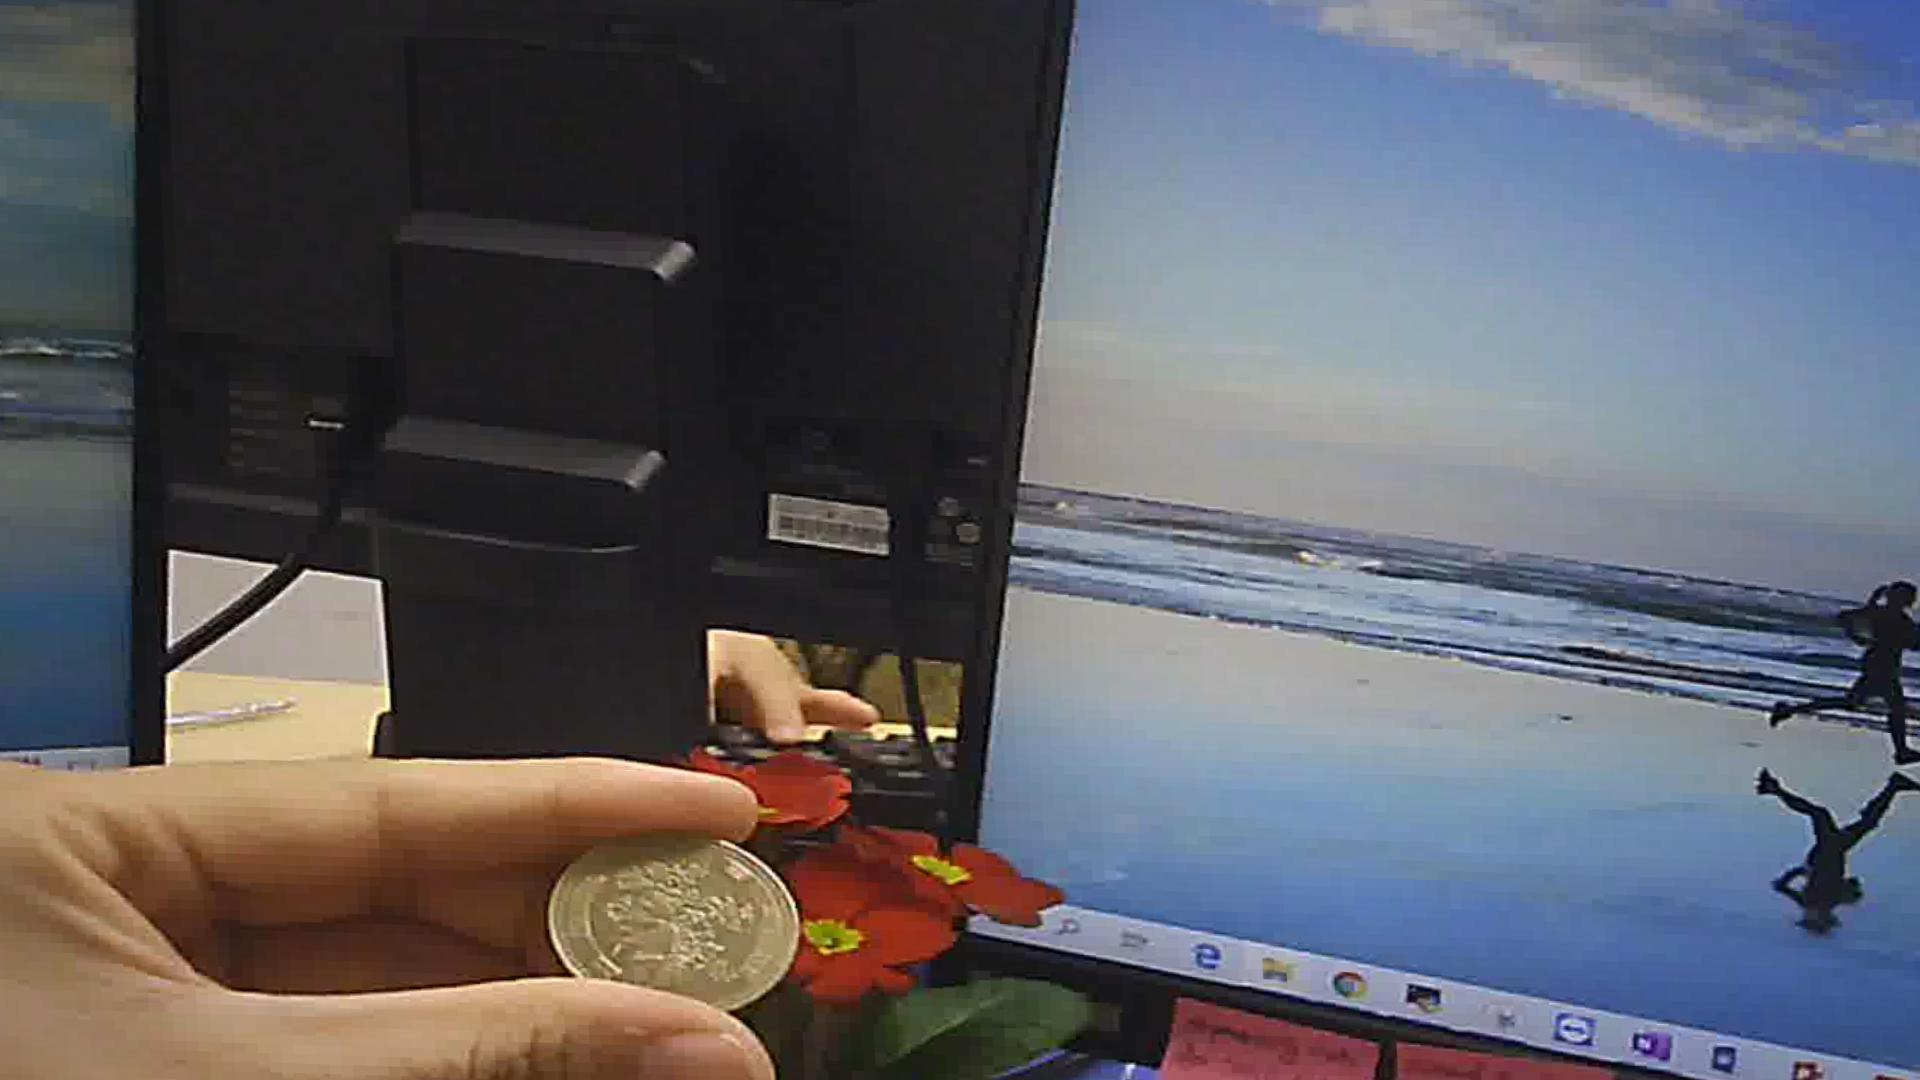500 Yen: (520, 811, 816, 1004)
